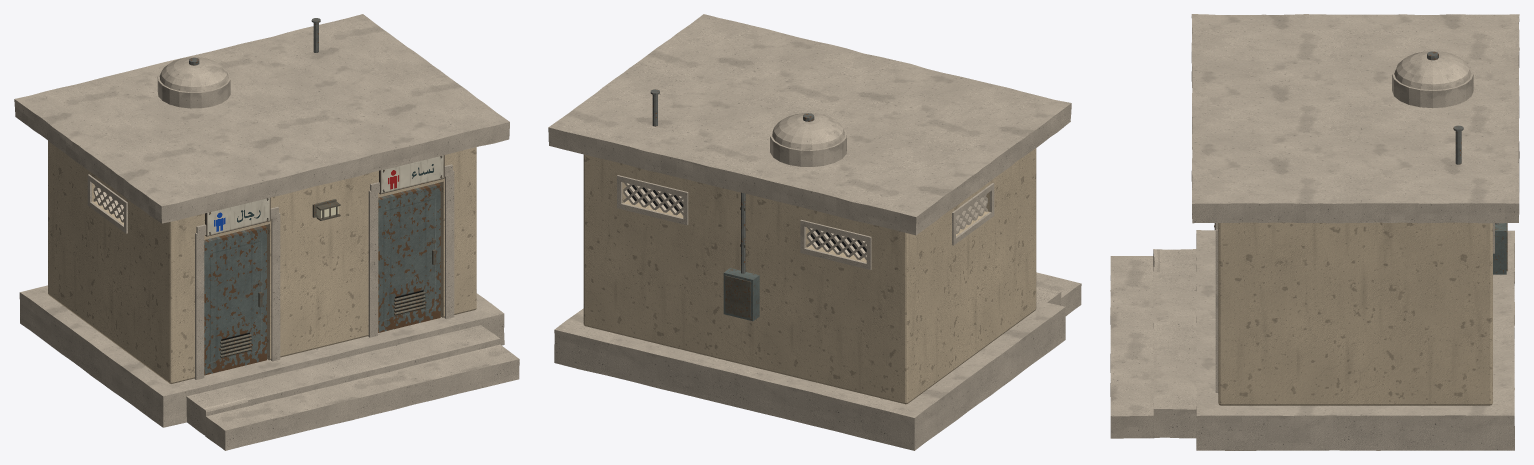
Rendered from ParkToilet.fbx.
The picture shows the model from 3 angles, left to right: view 1: azimuth 30°, elevation 25°; view 2: azimuth 150°, elevation 25°; view 3: azimuth 270°, elevation 25°; orthographic projection. The views are drawn at different scales.
Parts seen in each view (by area): view 1: ParkToilet; view 2: ParkToilet; view 3: ParkToilet.
Part boxes in pixels (left/top/right/bottom): ParkToilet: left=14, top=14, right=519, bottom=450; ParkToilet: left=548, top=14, right=1081, bottom=450; ParkToilet: left=1110, top=14, right=1519, bottom=450.
Bounding box in the file's own units: 5.22 × 3.68 × 4.77.
